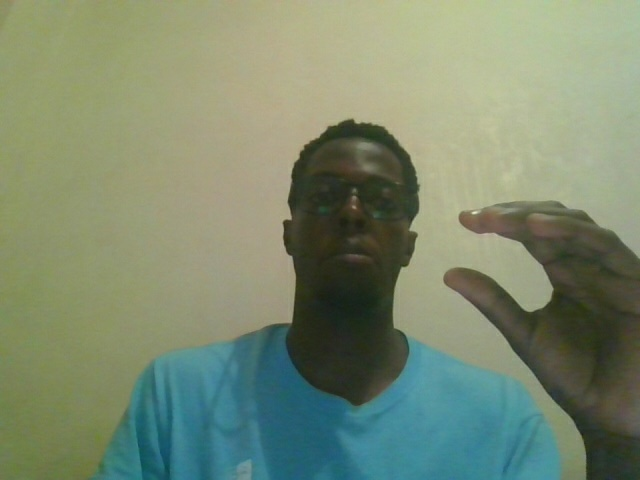No: (435, 192, 640, 471)
